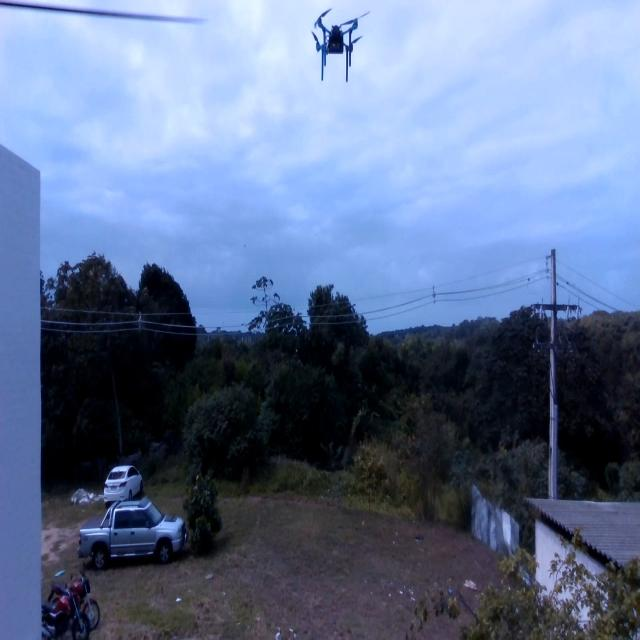-uav-: (308, 0, 372, 102)
